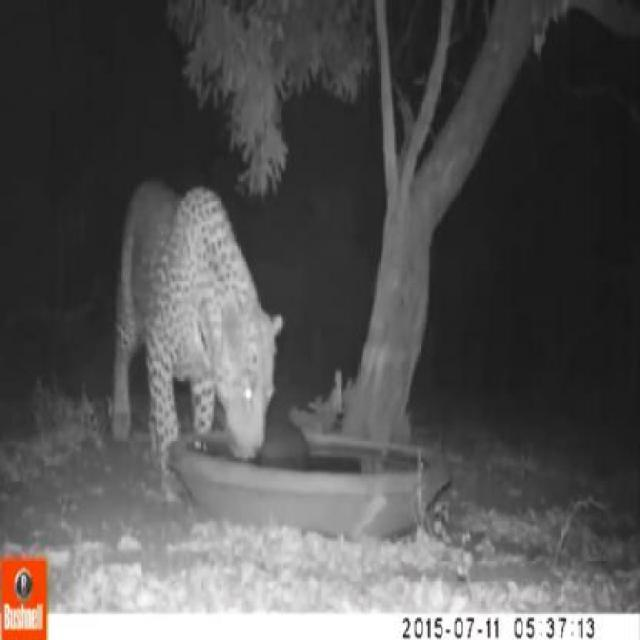Leopard: (125, 154, 344, 554)
